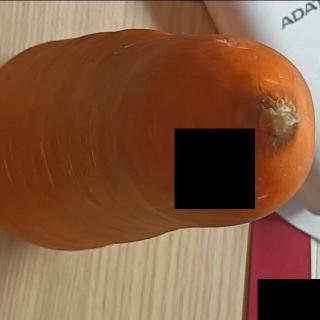carrot: (0, 23, 320, 255)
